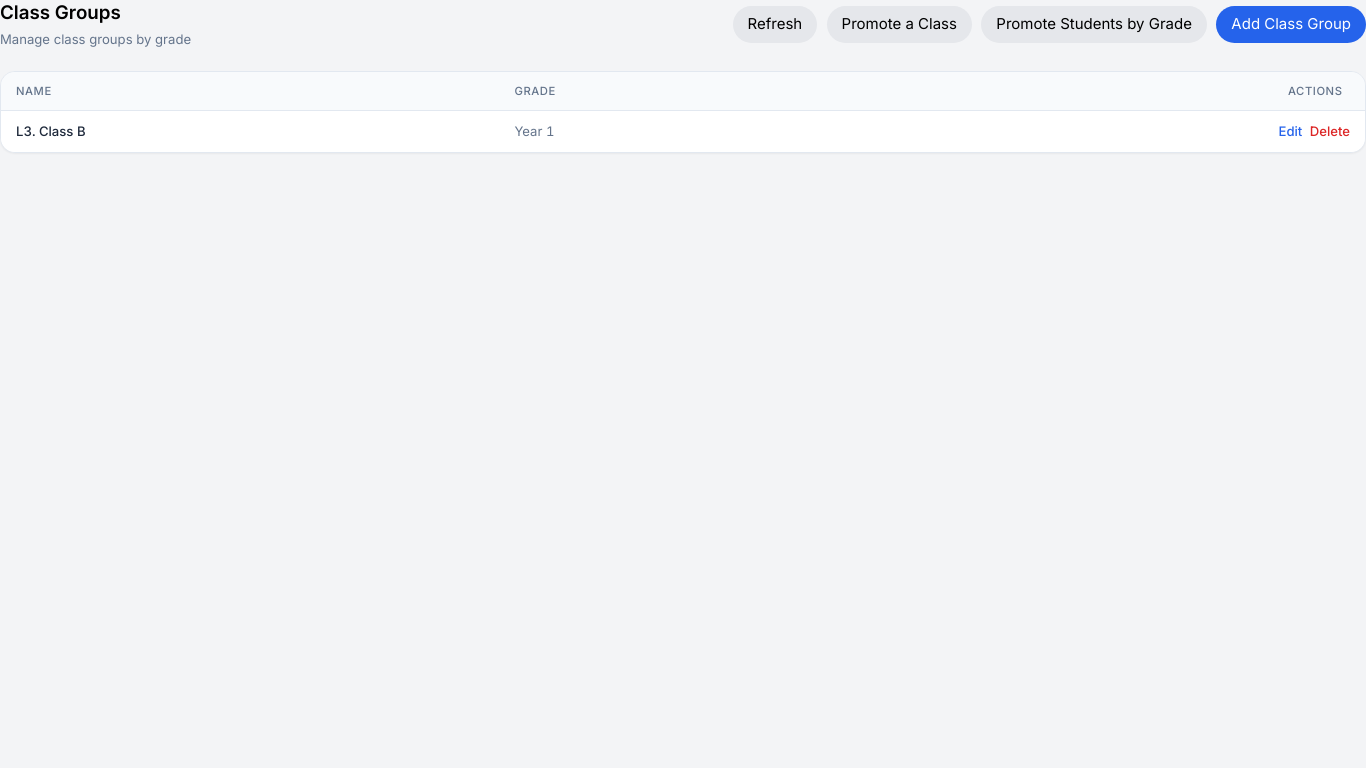
Test case: ClassGroupsTab delete flow › surfaces the server's reason when the delete fails
Step 1. Click the button "Delete" → (1330, 131), box [1310,122,1350,141]
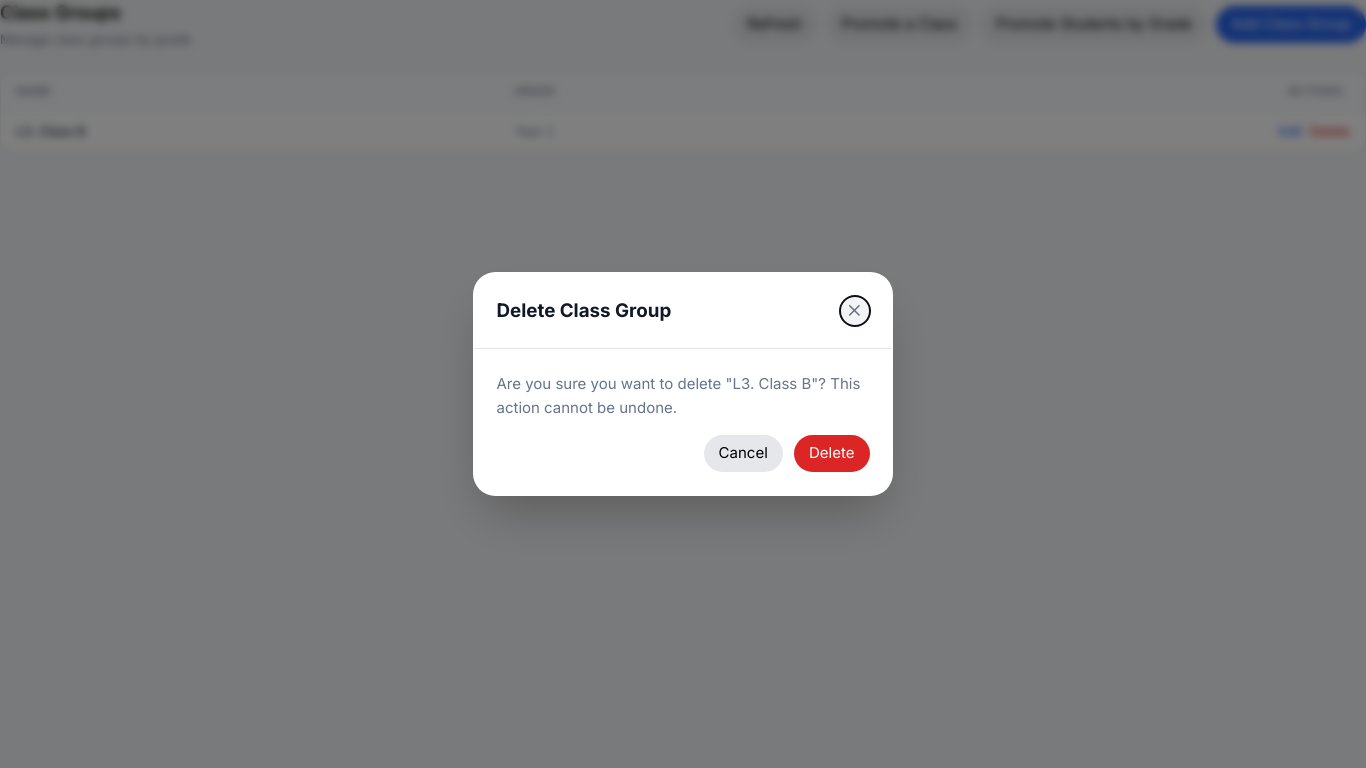
Step 2. Click the button "Delete" → (832, 454), box [794,435,870,472]
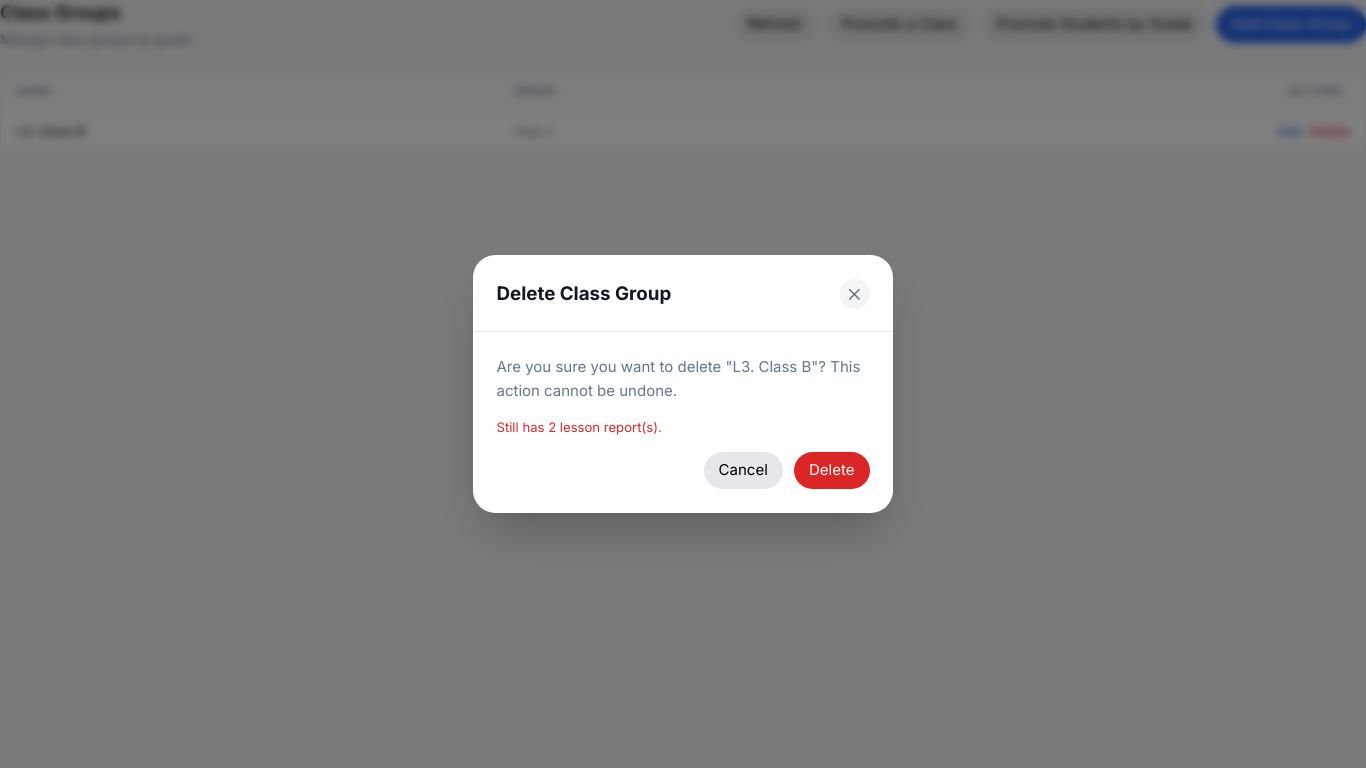
Check: the text "Still has 2 lesson report(s)." is shown, box [496,419,662,435]
